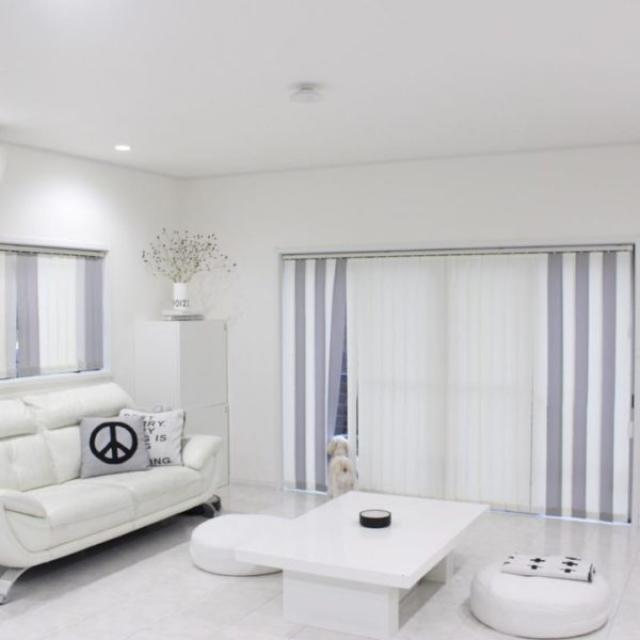white desk: (231, 485, 486, 618)
white sofa: (0, 380, 222, 592)
